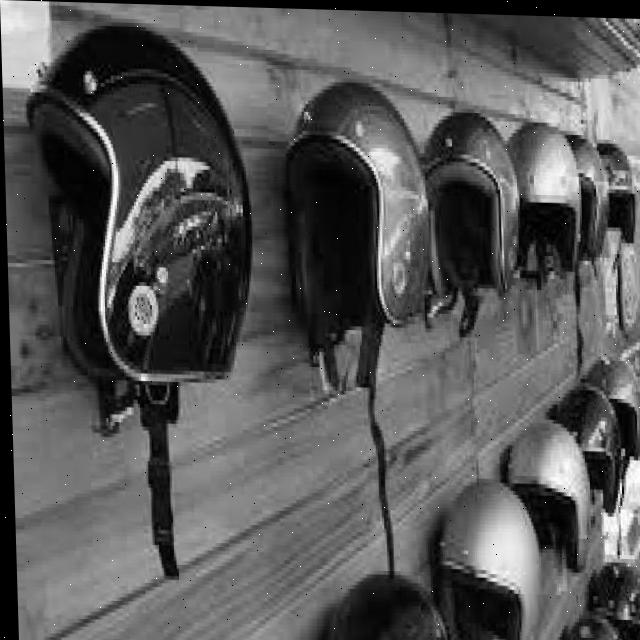Helmet: (16, 10, 259, 418), (284, 49, 431, 334), (426, 108, 520, 290), (510, 113, 581, 282)
